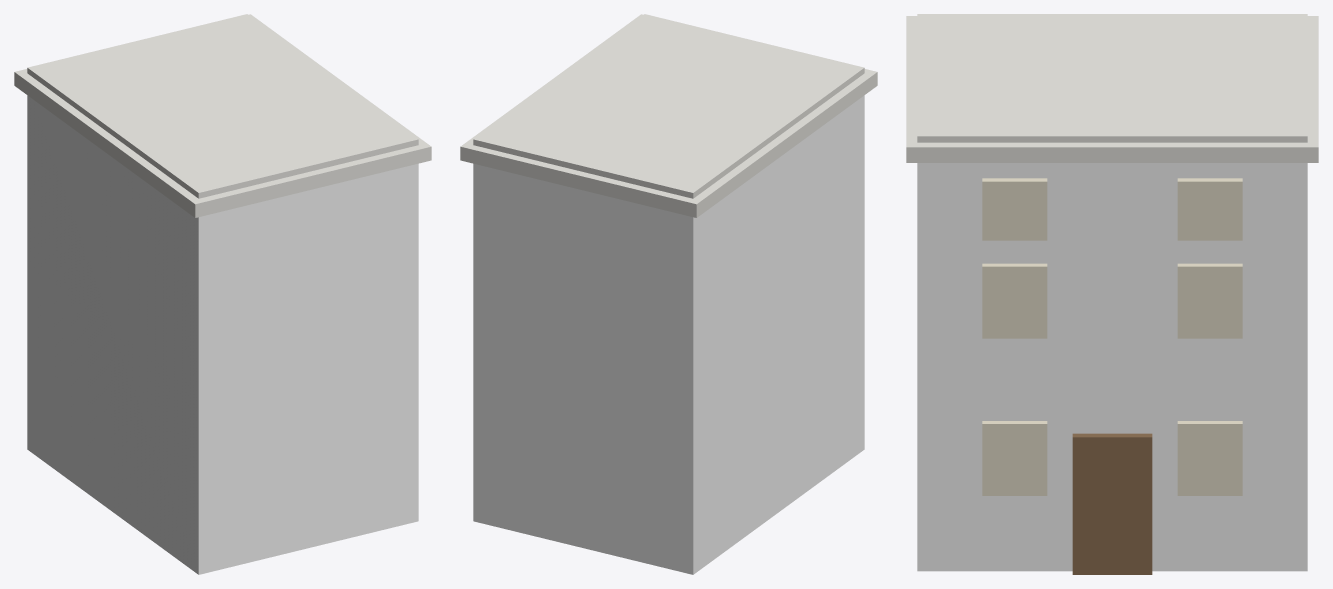
The model's file is Townhouse.glb.
3 views of the same model, side by side, from view 1: azimuth 30°, elevation 25°; view 2: azimuth 150°, elevation 25°; view 3: azimuth 270°, elevation 25° (orthographic). The views are drawn at different scales.
Parts seen in each view (by area): view 1: TownBody, TownRoof, TownCornice; view 2: TownBody, TownRoof, TownCornice; view 3: TownBody, TownRoof, TownCornice, TownDoor, TownWindow3, TownWindow4, TownWindow1, TownWindow2, TownWindow5, TownWindow6.
Boxes of the visible parts, <box> form: TownBody: <box>27,95,418,574</box>; TownRoof: <box>27,14,418,198</box>; TownCornice: <box>14,14,431,217</box>; TownBody: <box>473,95,864,574</box>; TownRoof: <box>473,14,864,198</box>; TownCornice: <box>460,14,877,217</box>; TownBody: <box>917,163,1307,571</box>; TownRoof: <box>917,14,1307,142</box>; TownCornice: <box>906,16,1318,162</box>; TownDoor: <box>1072,433,1152,574</box>; TownWindow3: <box>982,263,1047,338</box>; TownWindow4: <box>1177,263,1242,338</box>; TownWindow1: <box>982,421,1047,495</box>; TownWindow2: <box>1177,421,1242,495</box>; TownWindow5: <box>982,178,1047,240</box>; TownWindow6: <box>1177,178,1242,240</box>.
Size of the model in its own units: 4.3 by 6.64 by 5.7.
